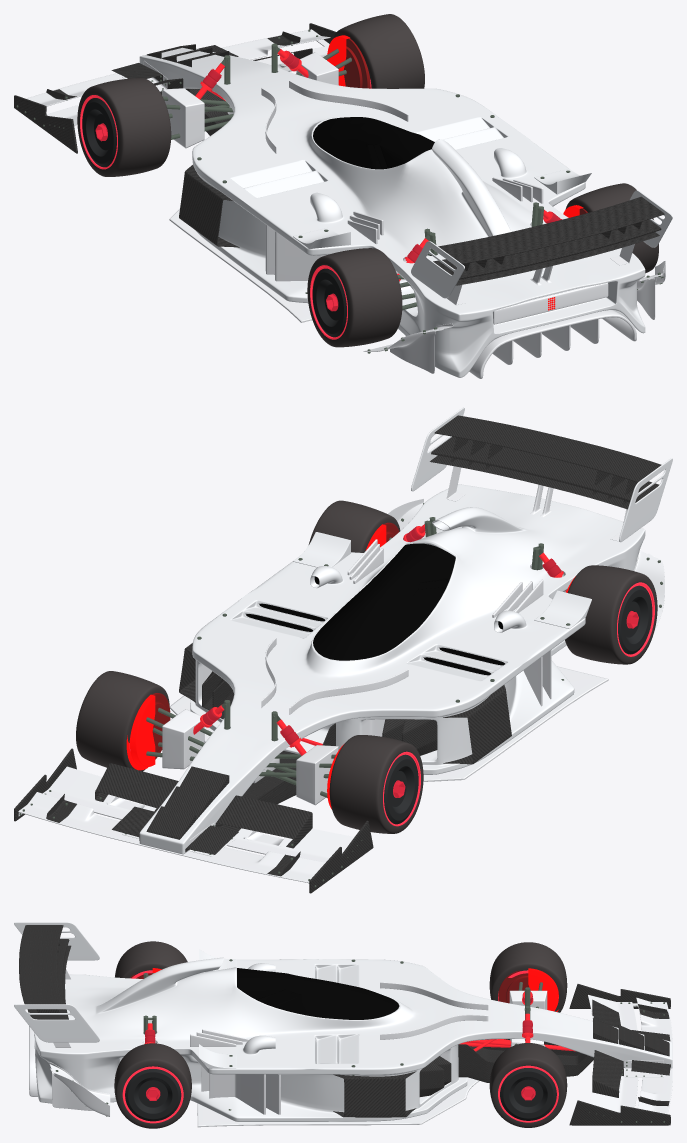
3 renders of one model, top to bottom at view 1: azimuth 30°, elevation 25°; view 2: azimuth 150°, elevation 25°; view 3: azimuth 270°, elevation 25°, orthographic. The views are drawn at different scales.
Parts seen in each view (by area): view 1: Plane_0, Plane.004_5, Circle.019_60, Circle.005_59, Plane.025_38, Circle.007_57, Cube.004_52, Plane.001_1, Plane.011_15, Plane.005_6, Plane.006_10, Cube.001_9 (+17 smaller); view 2: Plane_0, Plane.004_5, Plane.025_38, Plane.001_1, Circle.005_59, Circle.019_60, Circle.007_57, Plane.021_25, Cube.004_52, Plane.011_15, Plane.032_42, Plane.005_6 (+18 smaller); view 3: Plane_0, Circle.006_58, Circle.007_57, Plane.025_38, Plane.004_5, Plane.001_1, Plane.005_6, Plane.002_2, Plane.011_15, Circle.005_59, Plane.006_10, Plane.008_11 (+21 smaller).
Boxes of the visible parts, <box> form: Plane_0: <box>139,47,645,377</box>; Plane.004_5: <box>433,196,664,285</box>; Circle.019_60: <box>307,248,402,347</box>; Circle.005_59: <box>77,78,171,176</box>; Plane.025_38: <box>313,117,434,169</box>; Circle.007_57: <box>333,14,424,88</box>; Cube.004_52: <box>162,52,338,148</box>; Plane.001_1: <box>26,29,330,125</box>; Plane.011_15: <box>179,165,239,247</box>; Plane.005_6: <box>411,190,672,298</box>; Plane.006_10: <box>265,224,326,281</box>; Cube.001_9: <box>493,282,608,324</box>; Plane_0: <box>139,484,645,854</box>; Plane.004_5: <box>430,415,661,509</box>; Plane.025_38: <box>313,543,455,660</box>; Plane.001_1: <box>18,766,354,882</box>; Circle.005_59: <box>329,735,423,833</box>; Circle.019_60: <box>565,565,657,664</box>; Circle.007_57: <box>76,671,169,771</box>; Plane.021_25: <box>95,763,312,848</box>; Cube.004_52: <box>162,709,338,805</box>; Plane.011_15: <box>179,643,511,764</box>; Plane.032_42: <box>146,766,229,839</box>; Plane.005_6: <box>411,407,672,542</box>; Plane_0: <box>34,957,672,1121</box>; Circle.006_58: <box>114,1043,191,1128</box>; Circle.007_57: <box>489,1043,567,1127</box>; Plane.025_38: <box>237,968,399,1019</box>; Plane.004_5: <box>19,925,71,1019</box>; Plane.001_1: <box>588,995,672,1114</box>; Plane.005_6: <box>14,922,99,1042</box>; Plane.002_2: <box>569,984,670,1125</box>; Plane.011_15: <box>333,1071,416,1117</box>; Circle.005_59: <box>489,942,567,1012</box>; Plane.006_10: <box>201,1066,280,1114</box>; Plane.008_11: <box>197,1077,479,1127</box>.
Bounding box in the file's own units: 7.41 × 3.15 × 16.68.
Materials: 15 (9 with a texture image).
